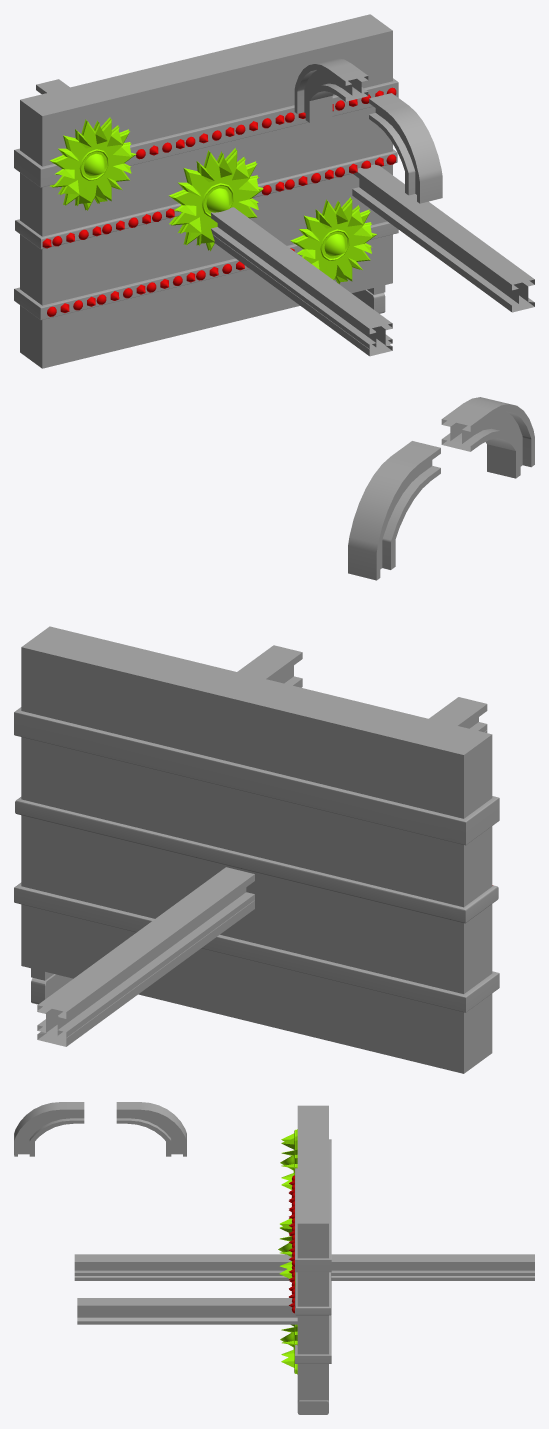
File: TrackAndObs.fbx
3 renders of one model, top to bottom at view 1: azimuth 30°, elevation 25°; view 2: azimuth 150°, elevation 25°; view 3: azimuth 270°, elevation 25°, orthographic. The views are drawn at different scales.
Visible parts, largest first — view 1: moving_spikes, Railtrackhalftop1, Railtracklong, trackfrontleft, Railtracklongtop, tracknaclleft, Railtrackhalf1; view 2: moving_spikes, Railtracklong, tracknaclleft, Railtracklongtop, trackfrontleft, Railtrackhalf1, Railtrackhalftop1; view 3: moving_spikes, Railtracklong, Railtracklongtop, Railtrackhalftop1, trackfrontleft, tracknaclleft, Railtrackhalf1.
Boxes of the visible parts, x1,y1,x2,y2 form: moving_spikes: (14,14,398,368); Railtrackhalftop1: (352,164,534,312); Railtracklong: (36,79,392,349); trackfrontleft: (369,93,442,203); Railtracklongtop: (36,80,392,356); tracknaclleft: (294,58,368,122); Railtrackhalf1: (211,207,308,285); moving_spikes: (14,626,499,1073); Railtracklong: (37,697,487,1037); tracknaclleft: (348,441,440,580); Railtracklongtop: (37,697,487,1046); trackfrontleft: (441,397,534,478); Railtrackhalf1: (143,867,254,954); Railtrackhalftop1: (237,645,302,687); moving_spikes: (278,1105,331,1414); Railtracklong: (74,1254,534,1275); Railtracklongtop: (74,1254,534,1280); Railtrackhalftop1: (77,1298,297,1324); trackfrontleft: (14,1102,84,1156); tracknaclleft: (116,1102,186,1156); Railtrackhalf1: (189,1254,419,1275).
Bounding box in the file's own units: 184 × 182 × 336.
